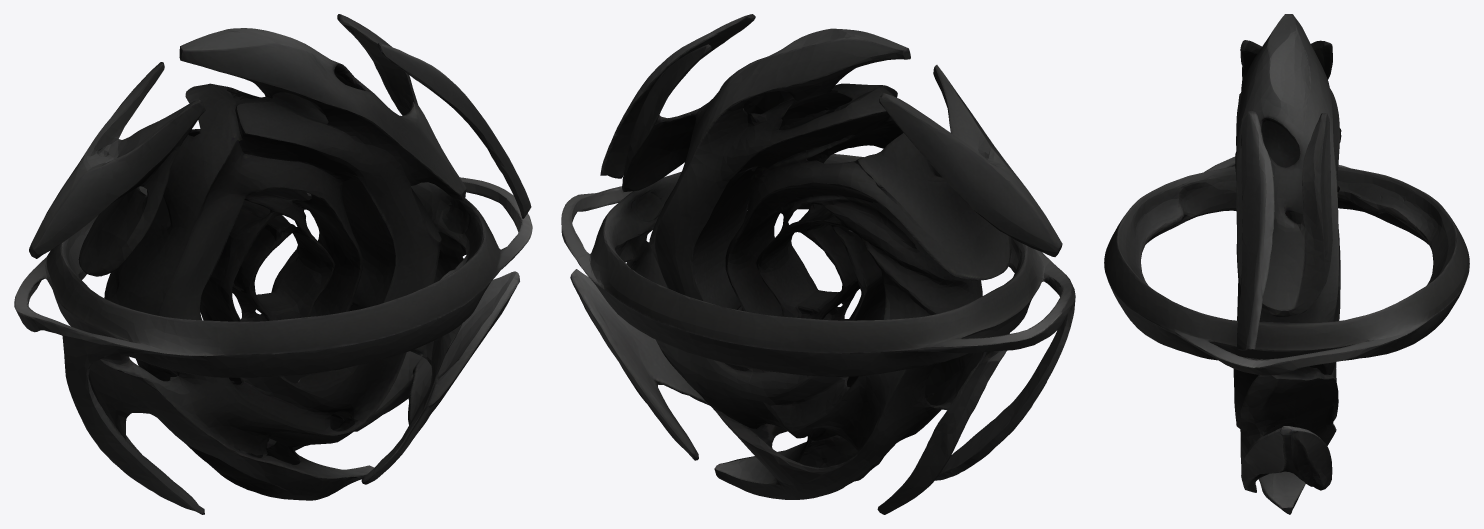
File: blackhole.glb
The picture shows the model from 3 angles, left to right: view 1: azimuth 30°, elevation 25°; view 2: azimuth 150°, elevation 25°; view 3: azimuth 270°, elevation 25°; orthographic projection. The views are drawn at different scales.
Parts seen in each view (by area): view 1: world; view 2: world; view 3: world.
Boxes of the visible parts, x1=… form: world: x1=14, y1=14, x2=532, y2=514; world: x1=561, y1=14, x2=1075, y2=514; world: x1=1104, y1=14, x2=1469, y2=514.
Bounding box in the file's own units: 1 × 0.9479 × 0.7358.
Materials: 1 (1 with a texture image).
